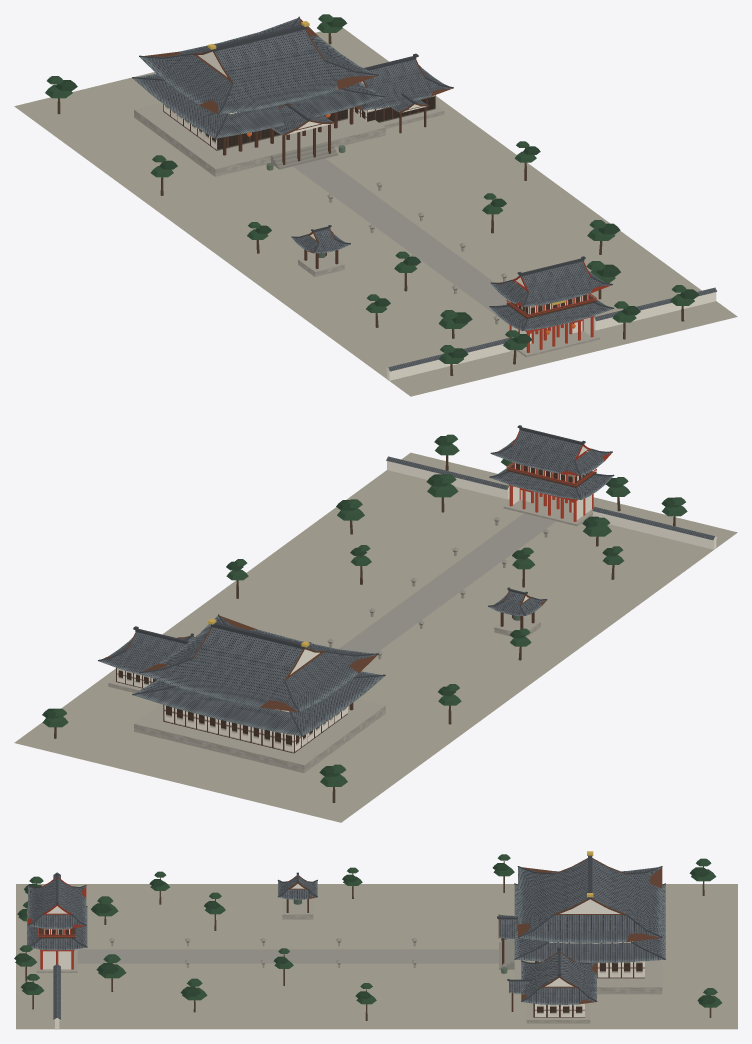
Rendered from zojoji.glb.
The picture shows the model from 3 angles, top to bottom: view 1: azimuth 30°, elevation 25°; view 2: azimuth 150°, elevation 25°; view 3: azimuth 270°, elevation 25°; orthographic projection. The views are drawn at different scales.
Visible parts, largest first — view 1: zojoji; view 2: zojoji; view 3: zojoji.
Boxes of the visible parts, left/top/right/bottom form: zojoji: left=14, top=14, right=737, bottom=396; zojoji: left=14, top=425, right=737, bottom=822; zojoji: left=14, top=851, right=737, bottom=1029.
Size of the model in its own units: 100 by 26.84 by 211.
2 materials, 2 textured.
